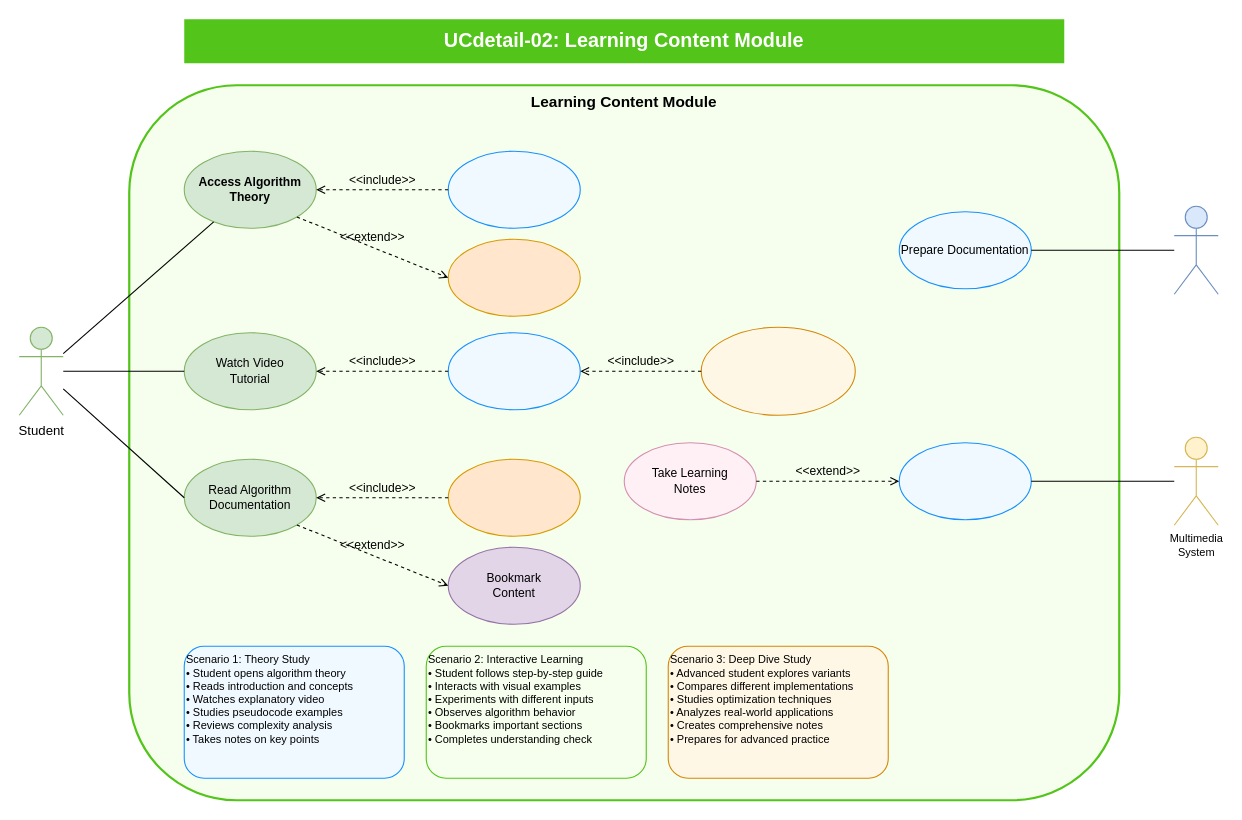
Some shapes in this 1242 by 820 pixel diagram are drawn without their labels. Each missing label, with the centre of its shape:
"Concept Visualization" belongs at [964,481].
"Content Manager" belongs at [1195,249].
"Explore Pseudocode" belongs at [513,497].
"Interactive Examples" belongs at [513,189].
"Step-by-Step Guide" belongs at [513,371].
"Track Reading Progress" belongs at [777,370].
"View Complexity Analysis" belongs at [513,277].
